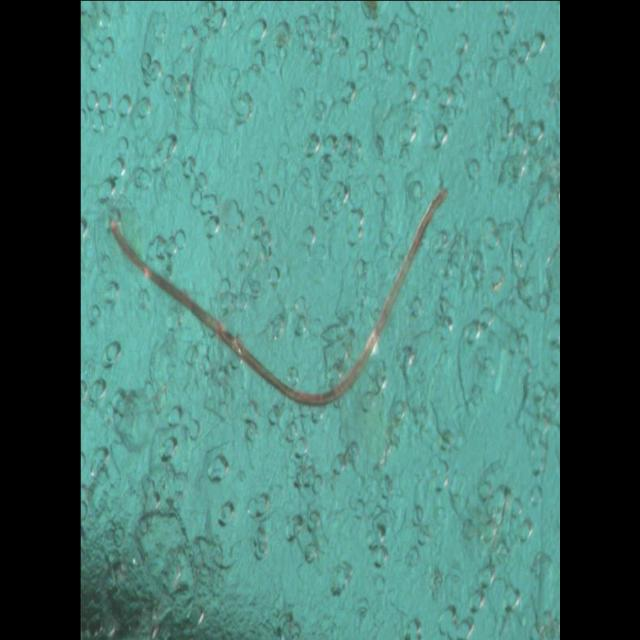Fibre: (108, 184, 448, 406)
